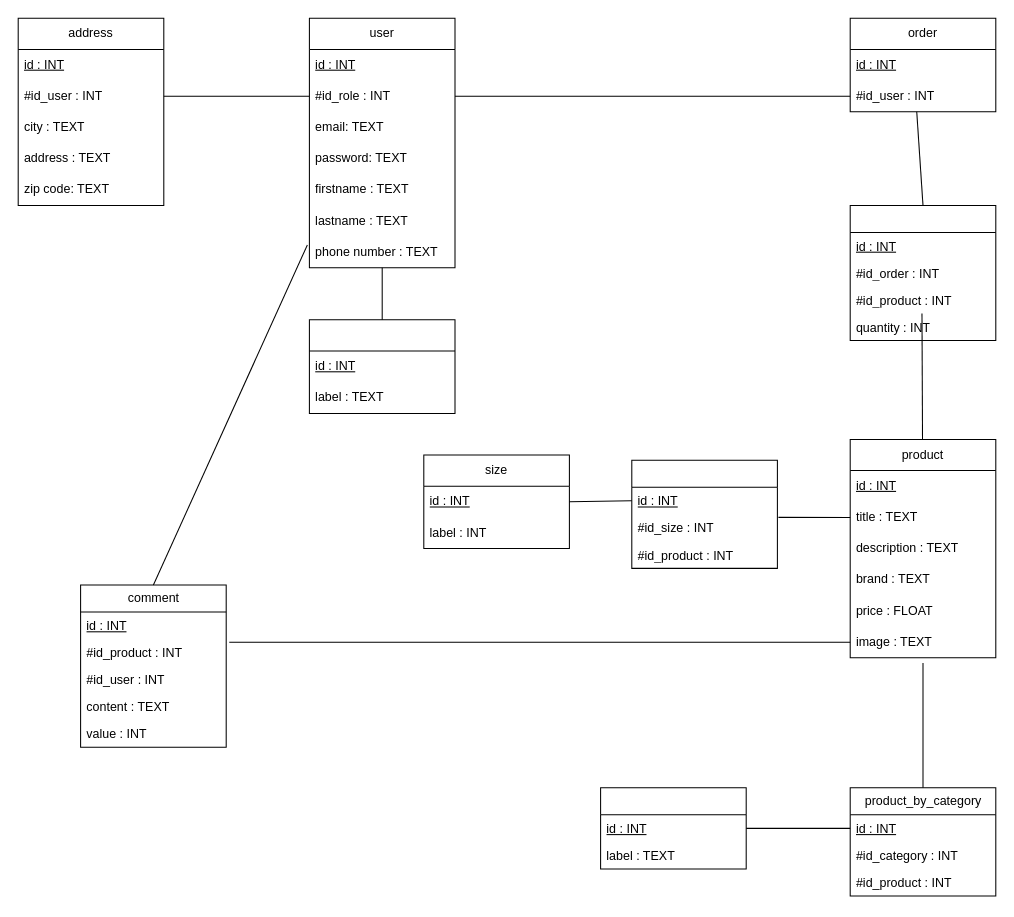
The diagram is 1014 pixels wide and 917 high, and some of its shapes have lost their labels. Each missing label, with the box of its shape:
category: (600, 787, 746, 869)
order_line: (849, 204, 996, 341)
product_by_size: (631, 459, 777, 568)
role: (308, 319, 455, 413)
